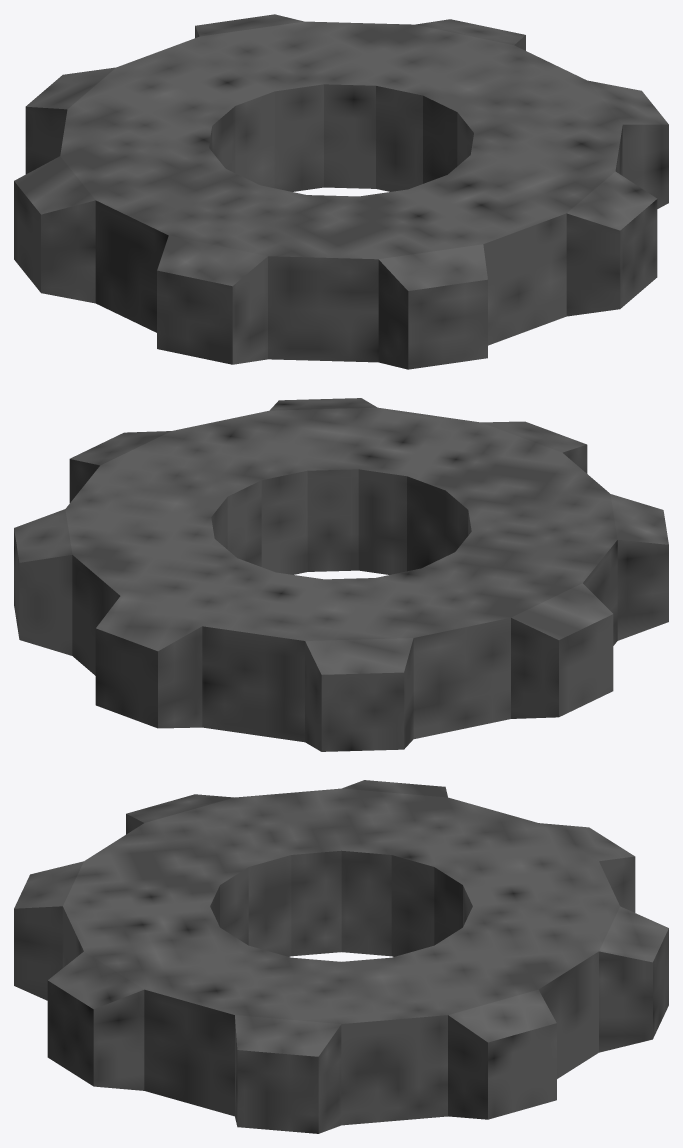
Rendered from Scrap1.fbx.
3 views of the same model, one above another, from view 1: azimuth 30°, elevation 25°; view 2: azimuth 150°, elevation 25°; view 3: azimuth 270°, elevation 25° (orthographic).
Parts seen in each view (by area): view 1: Cylinder; view 2: Cylinder; view 3: Cylinder.
Boxes of the visible parts, x1=… form: Cylinder: x1=14, y1=14, x2=668, y2=369; Cylinder: x1=14, y1=398, x2=668, y2=751; Cylinder: x1=14, y1=780, x2=668, y2=1133.
Bounding box in the file's own units: 92.81 × 15.85 × 92.81.
